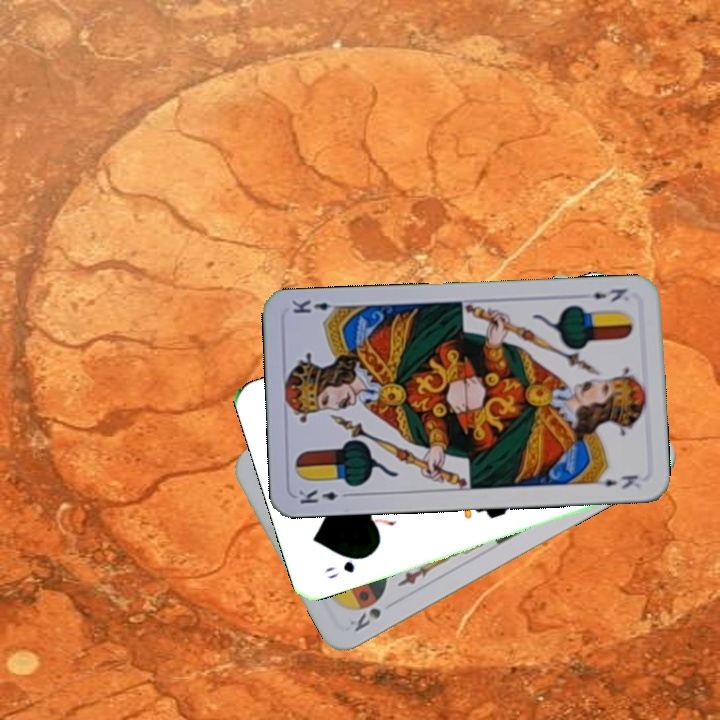EK: (294, 485, 354, 507), (589, 284, 630, 305)
GO: (321, 551, 371, 582)
SK: (345, 603, 384, 635)
